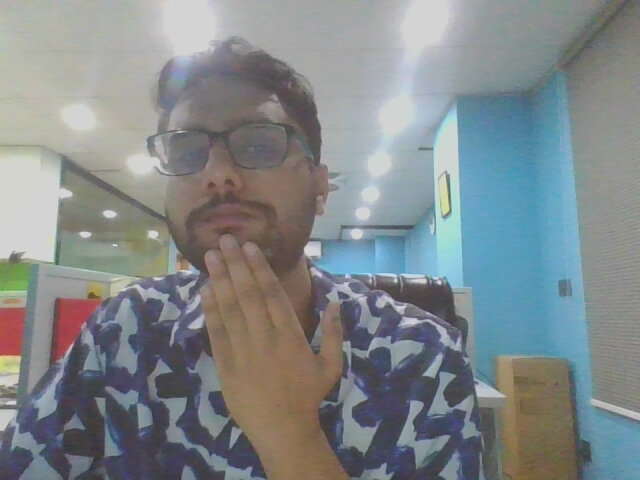thanks: (174, 230, 381, 473)
